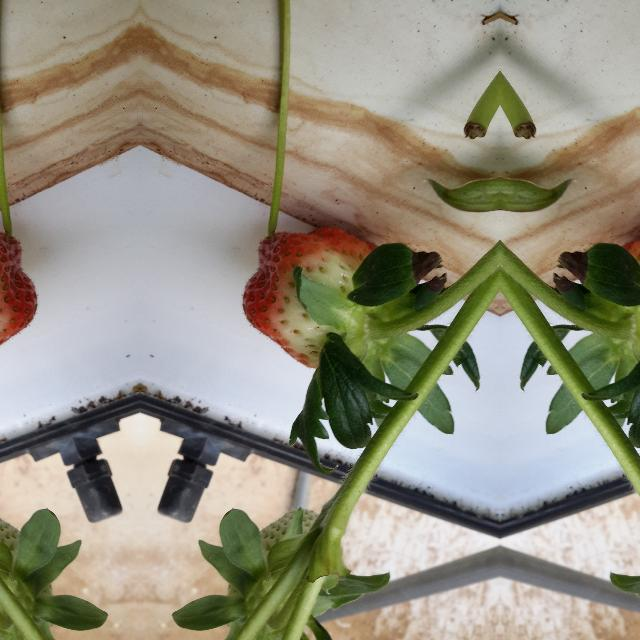Health_100: (242, 225, 376, 368), (0, 225, 38, 368)
